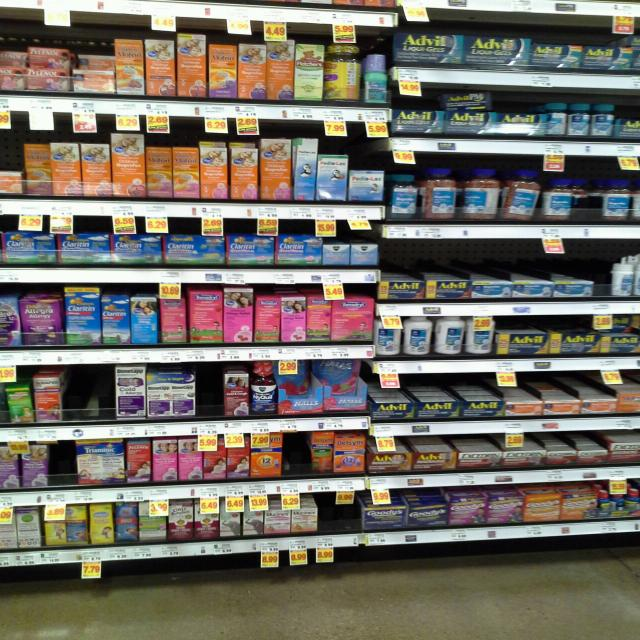empty: (60, 371, 122, 423), (312, 495, 368, 540), (189, 369, 231, 419), (583, 258, 623, 306), (284, 431, 318, 484), (48, 443, 79, 490)
